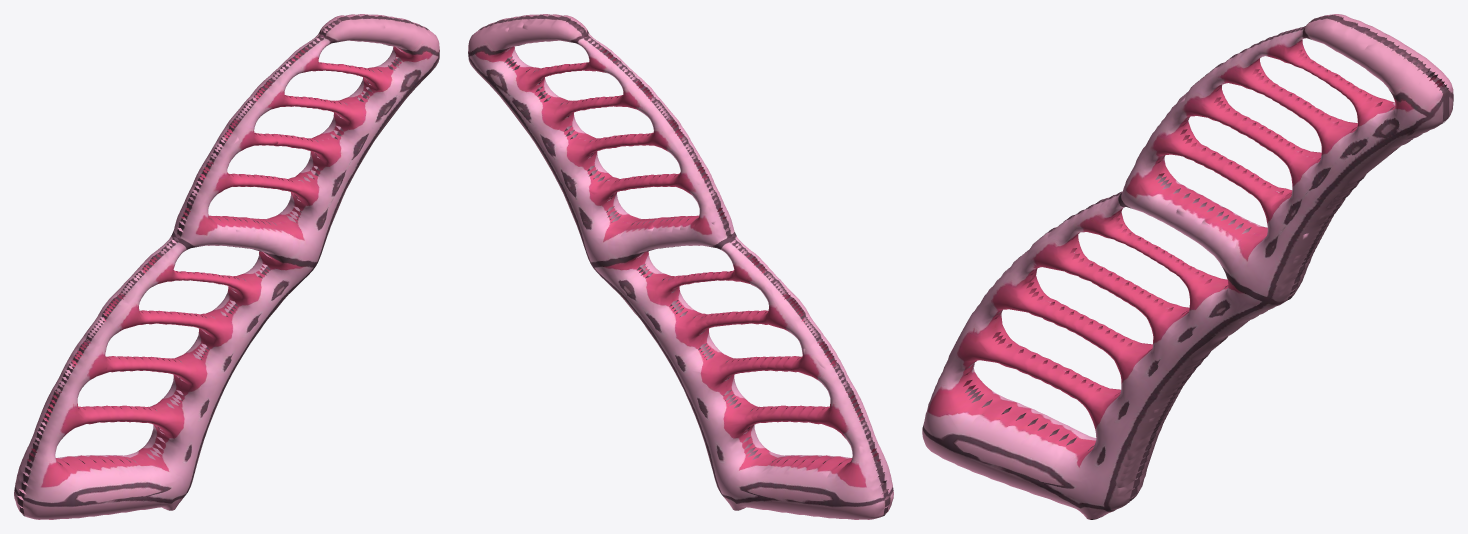
Rendered from light_gantry.glb.
3 views of the same model, side by side, from view 1: azimuth 30°, elevation 25°; view 2: azimuth 150°, elevation 25°; view 3: azimuth 330°, elevation 25° (orthographic). The views are drawn at different scales.
Visible parts, largest first — view 1: light_gantry; view 2: light_gantry; view 3: light_gantry.
Boxes of the visible parts, <box> form: light_gantry: <box>14,14,439,519</box>; light_gantry: <box>468,14,893,519</box>; light_gantry: <box>922,14,1453,519</box>.
Bounding box in the file's own units: 0.9889 × 0.9989 × 0.1532.
1 material, 1 textured.
